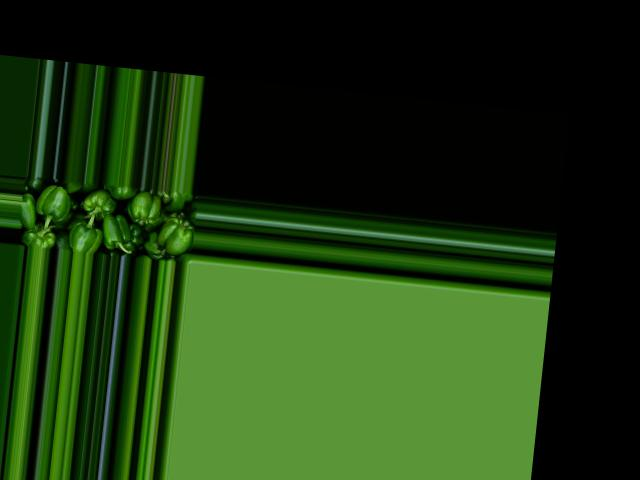bell_pepper: (19, 176, 198, 261)
